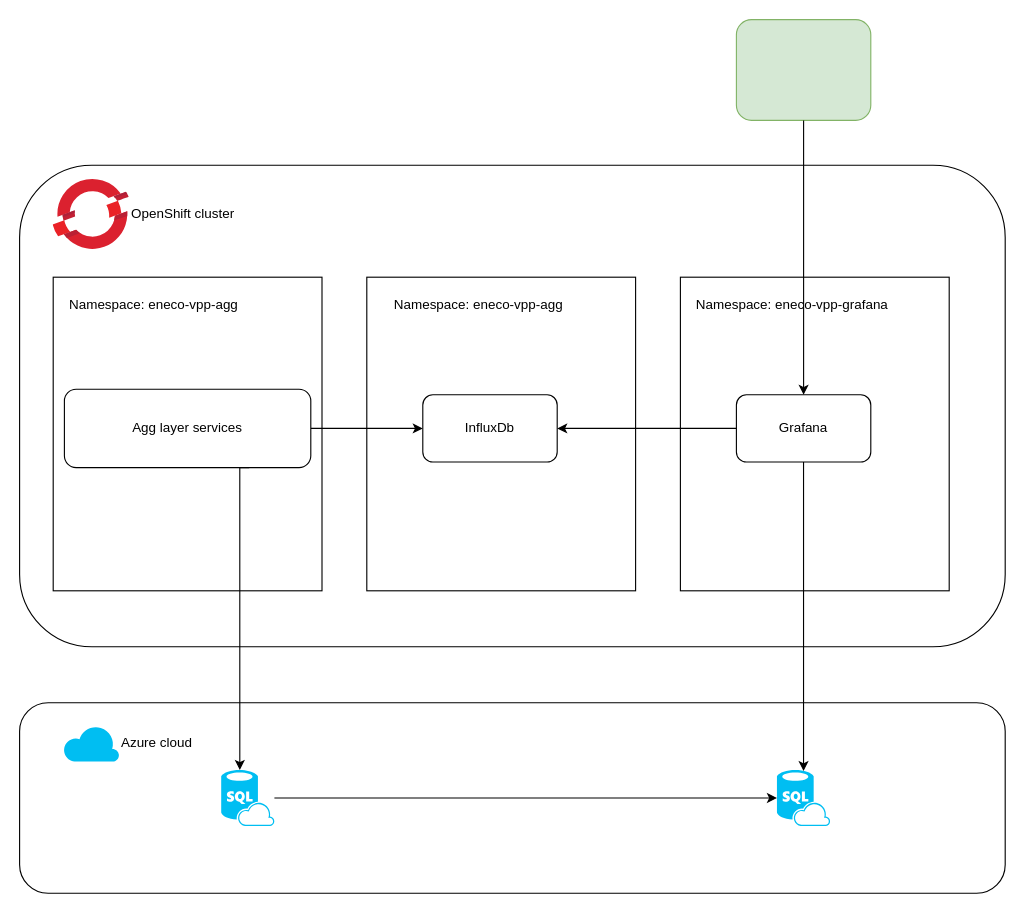
Image size: 1025x913. Some labels were removed from this diagram. The shapes that lost their labels are listed below. From the top down, each one's centre as x and y in pixels, then its label:
(x=803, y=69): AVD
(x=247, y=797): Siteregistry - Opeational DB
(x=803, y=797): Siteregistry - Read-only replica
